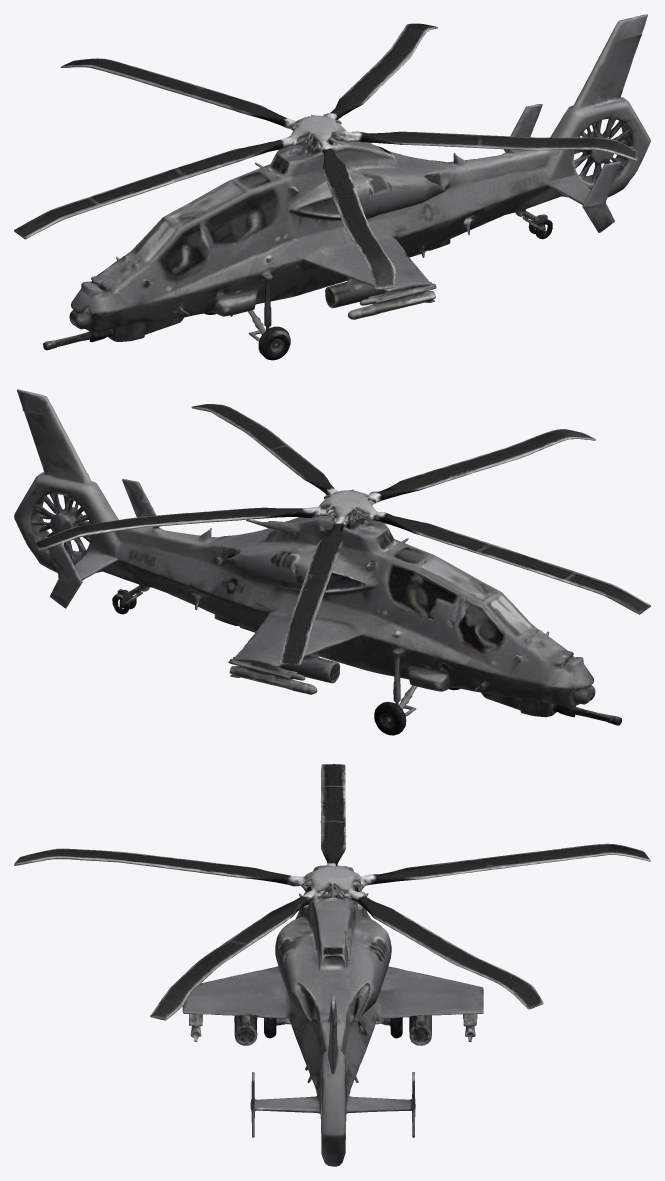
The model's file is helicopter.glb.
The picture shows the model from 3 angles, top to bottom: view 1: azimuth 30°, elevation 25°; view 2: azimuth 150°, elevation 25°; view 3: azimuth 270°, elevation 25°; orthographic projection. The views are drawn at different scales.
Size of the model in its own units: 1.9 by 0.6462 by 1.63.
1 material, 1 textured.
